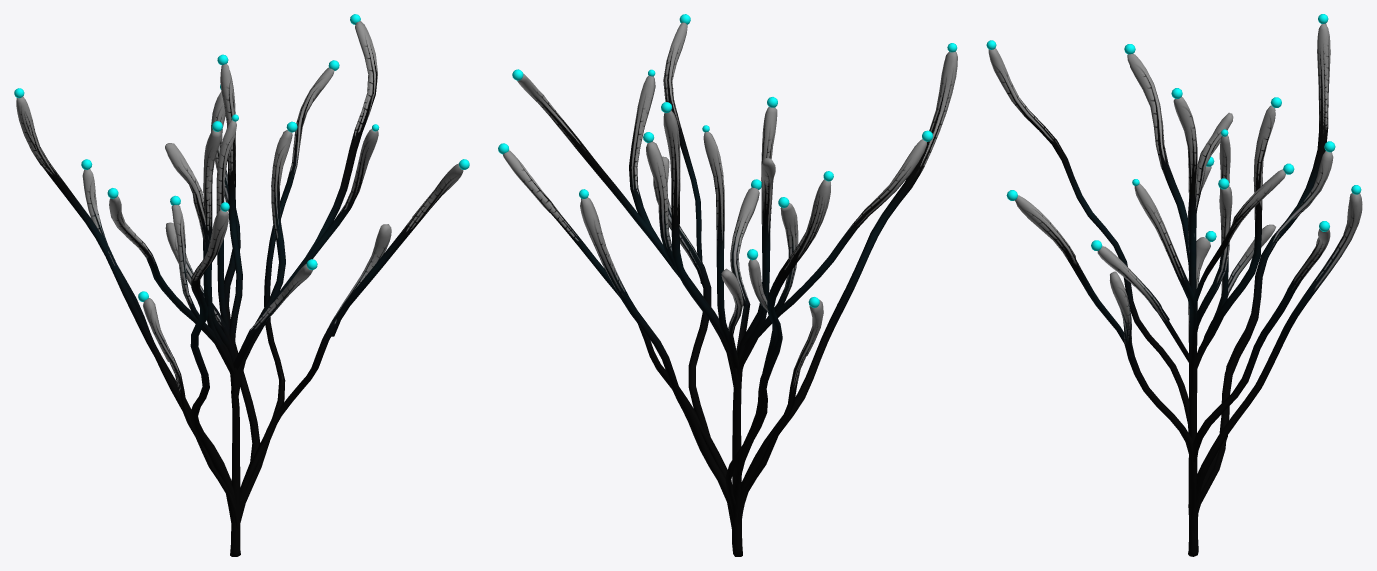
Rendered from Fractals4.glb.
3 renders of one model, left to right at view 1: azimuth 30°, elevation 25°; view 2: azimuth 150°, elevation 25°; view 3: azimuth 270°, elevation 25°, orthographic. The views are drawn at different scales.
Parts seen in each view (by area): view 1: NeuralFractal, Spheres; view 2: NeuralFractal, Spheres; view 3: NeuralFractal, Spheres.
Boxes of the visible parts, x1,y1,x2,y2 form: NeuralFractal: (16, 21, 463, 556); Spheres: (14, 14, 469, 270); NeuralFractal: (503, 22, 957, 556); Spheres: (498, 14, 957, 260); NeuralFractal: (988, 23, 1362, 556); Spheres: (986, 14, 1361, 250).
Bounding box in the file's own units: 0.7466 × 1 × 0.722.
Materials: 1 (1 with a texture image).
